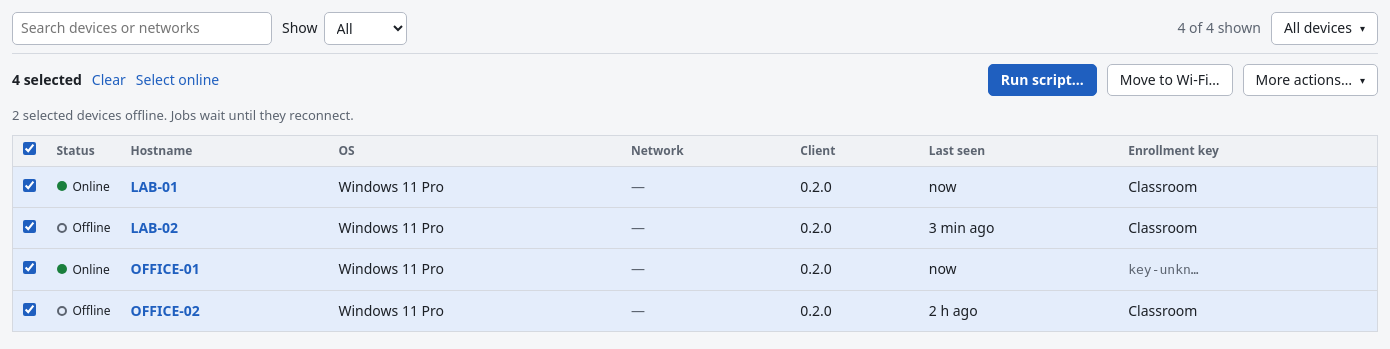
Test: DeviceList › select-all toggles off only the filtered rows
Expected: the text "4 selected" is shown, [12, 70, 82, 89]
Expected: the checkbox named "Select all shown devices" is checked, [23, 142, 36, 155]
Select "Offline" in the dropdown labelled "Show" at {"x": 365, "y": 28}, box [324, 12, 406, 45]
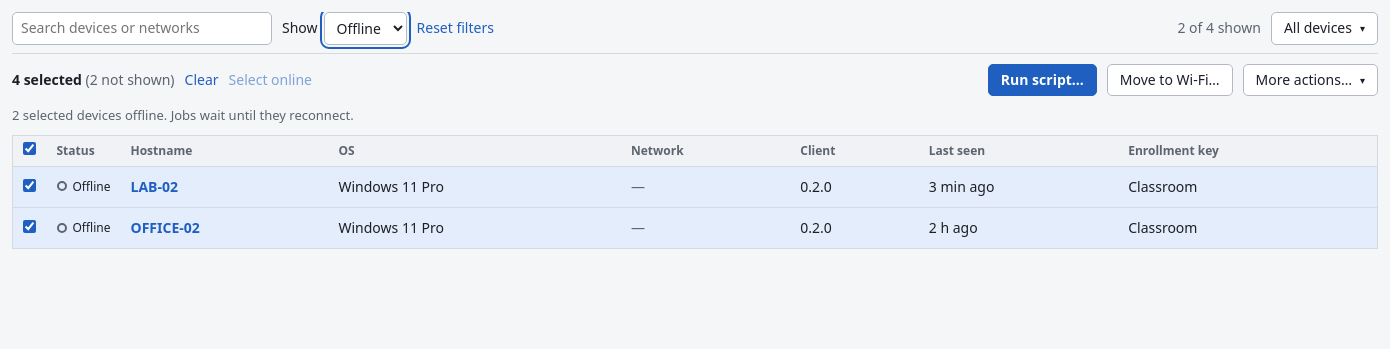
Click the checkbox named "Select all shown devices" at {"x": 30, "y": 149}, box [23, 142, 36, 155]
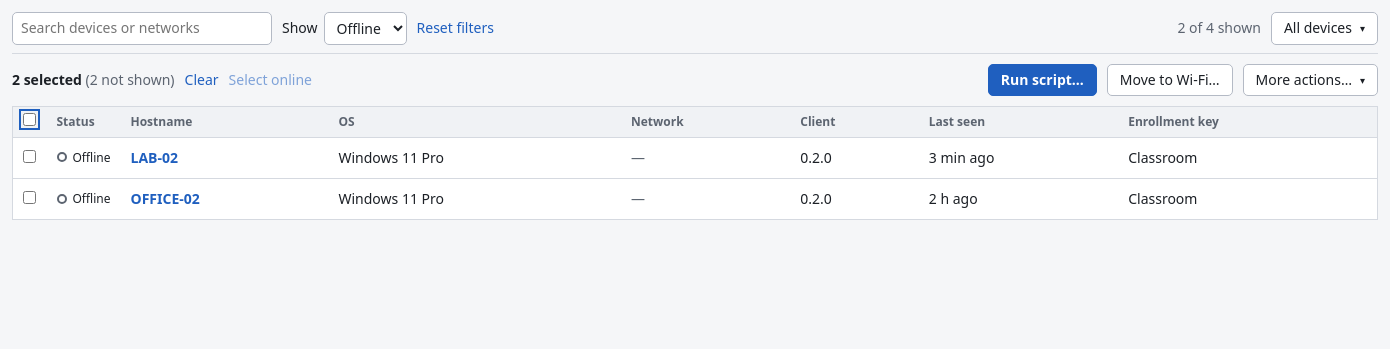
Now the text "2 selected" is shown, box [12, 70, 82, 89]
Click the button "Clear" at {"x": 202, "y": 80}, box [185, 70, 219, 90]
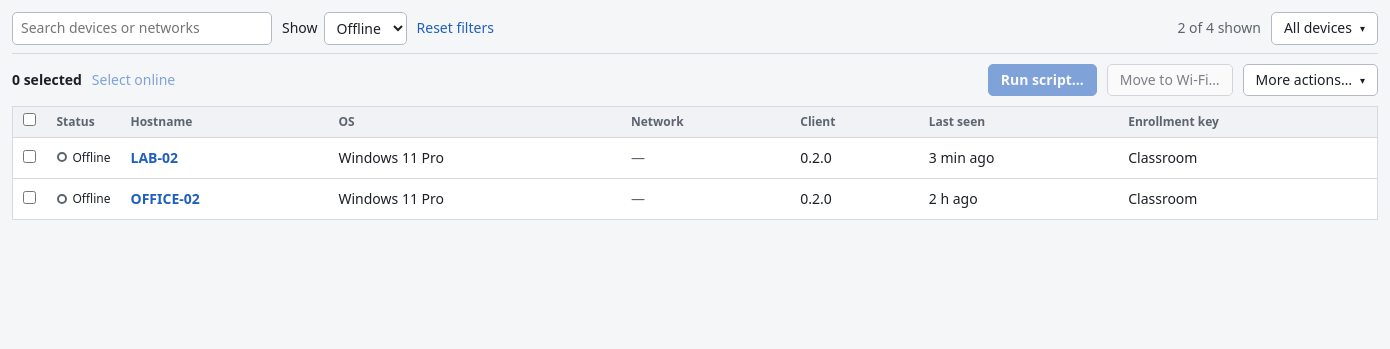
Now the text "0 selected" is shown, box [12, 70, 82, 89]
